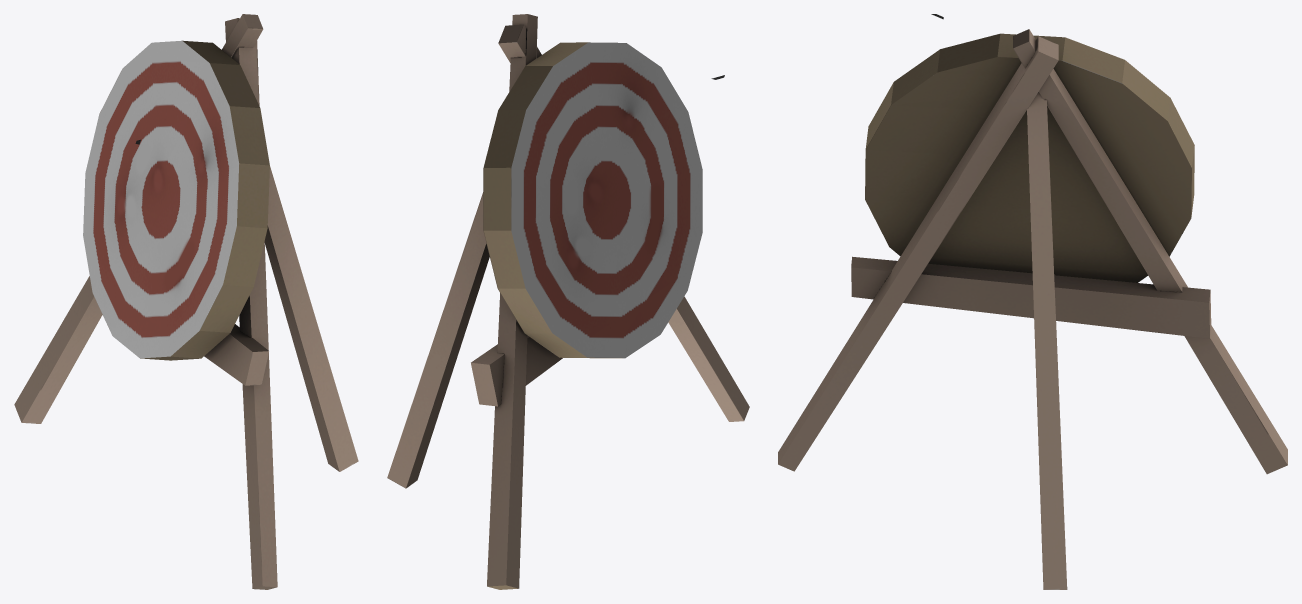
Rendered from target.obj.
3 renders of one model, left to right at view 1: azimuth 30°, elevation 25°; view 2: azimuth 150°, elevation 25°; view 3: azimuth 270°, elevation 25°, orthographic. The views are drawn at different scales.
Parts seen in each view (by area): view 1: obj1.050; view 2: obj1.050; view 3: obj1.050.
Part boxes in pixels (x1,y1,x2,y2): obj1.050: (14,14,358,589); obj1.050: (387,14,749,589); obj1.050: (778,14,1287,589).
Size of the model in its own units: 33.48 by 56.84 by 51.97.
Materials: 1 (1 with a texture image).
